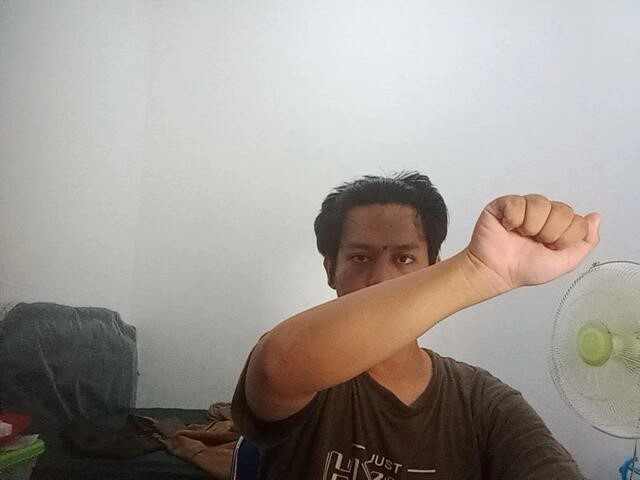A: (464, 184, 610, 296)
